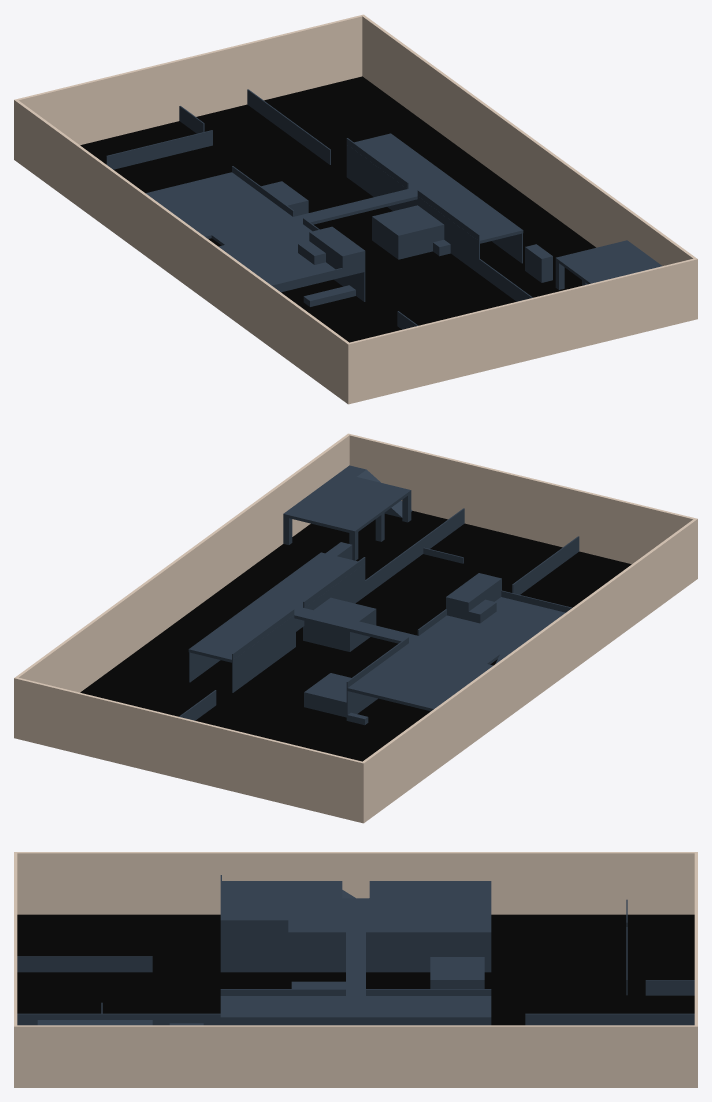
Rendered from break_point_map.glb.
The picture shows the model from 3 angles, top to bottom: view 1: azimuth 30°, elevation 25°; view 2: azimuth 150°, elevation 25°; view 3: azimuth 270°, elevation 25°; orthographic projection. The views are drawn at different scales.
Parts seen in each view (by area): view 1: Plane, Cube.010, Cube.007, Cube.026, Cube.008, Cube.009, Cube.015, Cube.017, Cube.041, Cube.023, Cube.035, Cube.004 (+8 smaller); view 2: Plane, Cube.026, Cube.007, Cube.010, Cube.008, Cube.009, Cube.015, Cube.041, Cube.017, Cube.004, Cube.014, Cube.035 (+5 smaller); view 3: Cube.008, Plane, Cube.007, Cube.009, Cube.015, Cube.005, Cube.002, Cube.028, Cube.033, Cube.011, Cube.032, Cube.035 (+13 smaller).
Part boxes in pixels (left/top/right/bottom): Plane: left=80, top=76, right=595, bottom=342; Cube.010: left=350, top=258, right=694, bottom=403; Cube.007: left=14, top=99, right=350, bottom=404; Cube.026: left=17, top=15, right=362, bottom=145; Cube.008: left=361, top=14, right=697, bottom=319; Cube.009: left=152, top=172, right=365, bottom=291; Cube.015: left=346, top=133, right=523, bottom=243; Cube.017: left=372, top=205, right=444, bottom=259; Cube.041: left=555, top=244, right=644, bottom=284; Cube.023: left=106, top=130, right=212, bottom=169; Cube.035: left=309, top=226, right=365, bottom=273; Cube.004: left=346, top=147, right=479, bottom=258; Plane: left=80, top=511, right=631, bottom=761; Cube.026: left=17, top=677, right=361, bottom=822; Cube.007: left=361, top=518, right=697, bottom=823; Cube.010: left=349, top=434, right=694, bottom=564; Cube.008: left=14, top=433, right=350, bottom=738; Cube.009: left=346, top=597, right=558, bottom=710; Cube.015: left=188, top=552, right=365, bottom=662; Cube.041: left=300, top=477, right=411, bottom=534; Cube.017: left=304, top=597, right=376, bottom=651; Cube.004: left=232, top=566, right=365, bottom=677; Cube.014: left=365, top=508, right=464, bottom=595; Cube.035: left=446, top=573, right=501, bottom=620; Cube.008: left=14, top=1025, right=697, bottom=1087; Plane: left=17, top=914, right=694, bottom=1025; Cube.007: left=14, top=852, right=697, bottom=914; Cube.009: left=220, top=898, right=491, bottom=941; Cube.015: left=220, top=995, right=491, bottom=1020; Cube.005: left=220, top=941, right=491, bottom=956; Cube.002: left=220, top=957, right=491, bottom=972; Cube.028: left=17, top=956, right=152, bottom=972; Cube.033: left=369, top=881, right=491, bottom=898; Cube.011: left=525, top=1013, right=694, bottom=1025; Cube.032: left=222, top=881, right=342, bottom=898; Cube.035: left=220, top=908, right=288, bottom=938.
Bounding box in the file's own units: 122 × 20 × 202.
